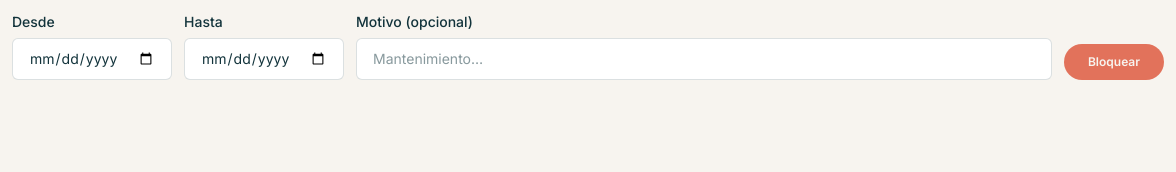
BloqueosManager › muestra el error del backend al crear un bloqueo
Type "2026-09-01" into the date field labelled "Desde".
click(92, 59); type("2026-09-01")  # box [12,38,172,80]
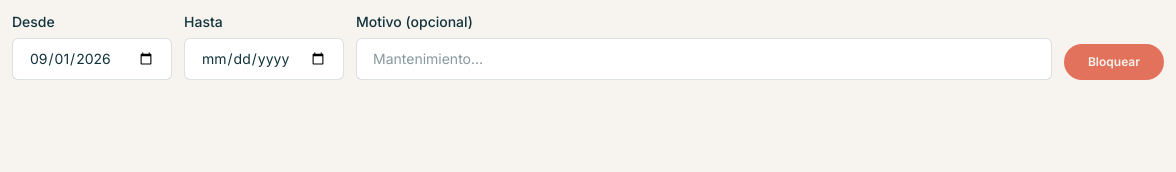
Type "2026-09-05" into the date field labelled "Hasta".
click(264, 59); type("2026-09-05")  # box [184,38,344,80]
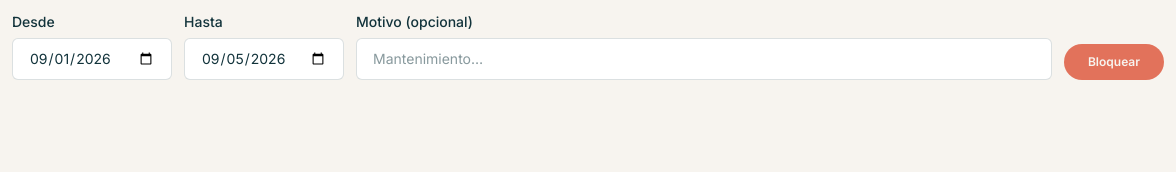
Click the button "Bloquear".
click(1114, 62)  # box [1064,44,1164,80]
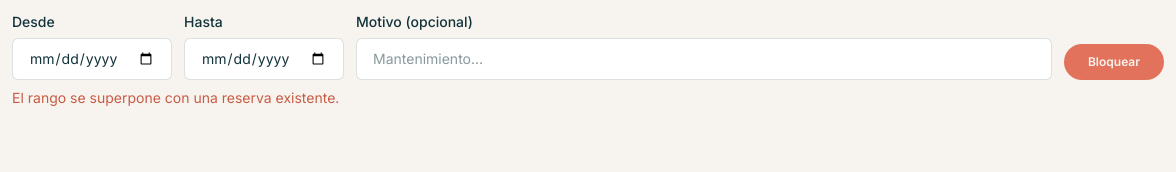
Result: the message shows "se superpone con una reserva" at [12,89,339,106]
